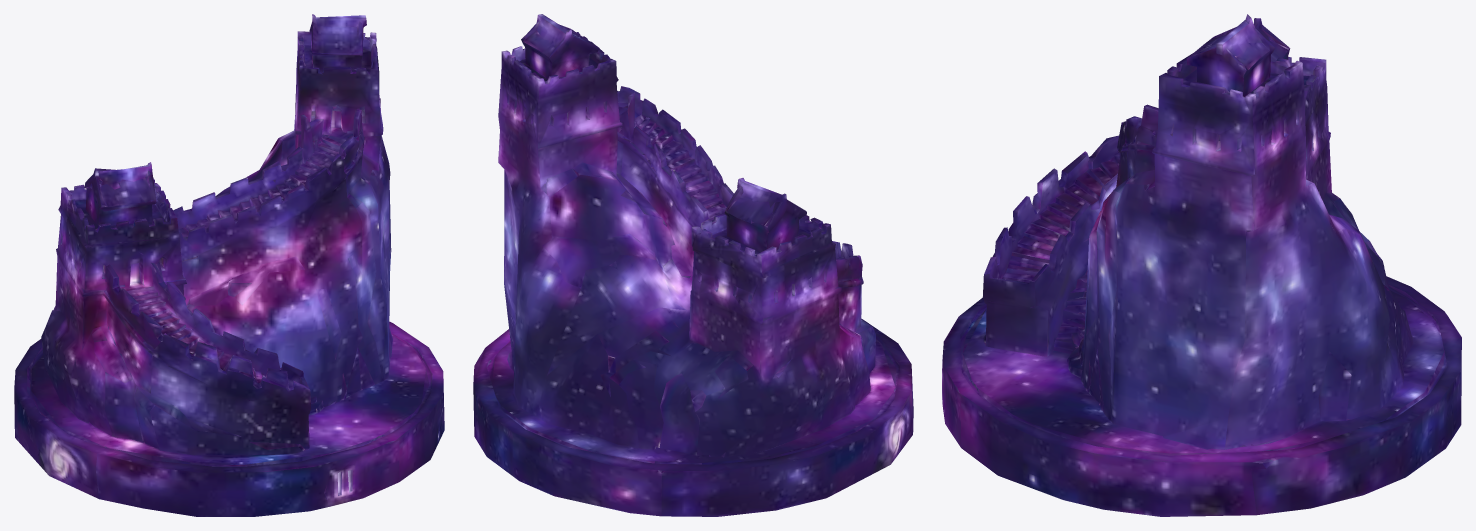
The model's file is great_wall_celestial.glb.
3 renders of one model, left to right at view 1: azimuth 30°, elevation 25°; view 2: azimuth 150°, elevation 25°; view 3: azimuth 270°, elevation 25°, orthographic. The views are drawn at different scales.
Parts seen in each view (by area): view 1: Mesh_0; view 2: Mesh_0; view 3: Mesh_0.
Part boxes in pixels (left/top/right/bottom): Mesh_0: left=14, top=14, right=444, bottom=516; Mesh_0: left=473, top=14, right=913, bottom=516; Mesh_0: left=942, top=14, right=1461, bottom=516.
Bounding box in the file's own units: 1.89 × 1.84 × 1.9.
Materials: 1 (1 with a texture image).
